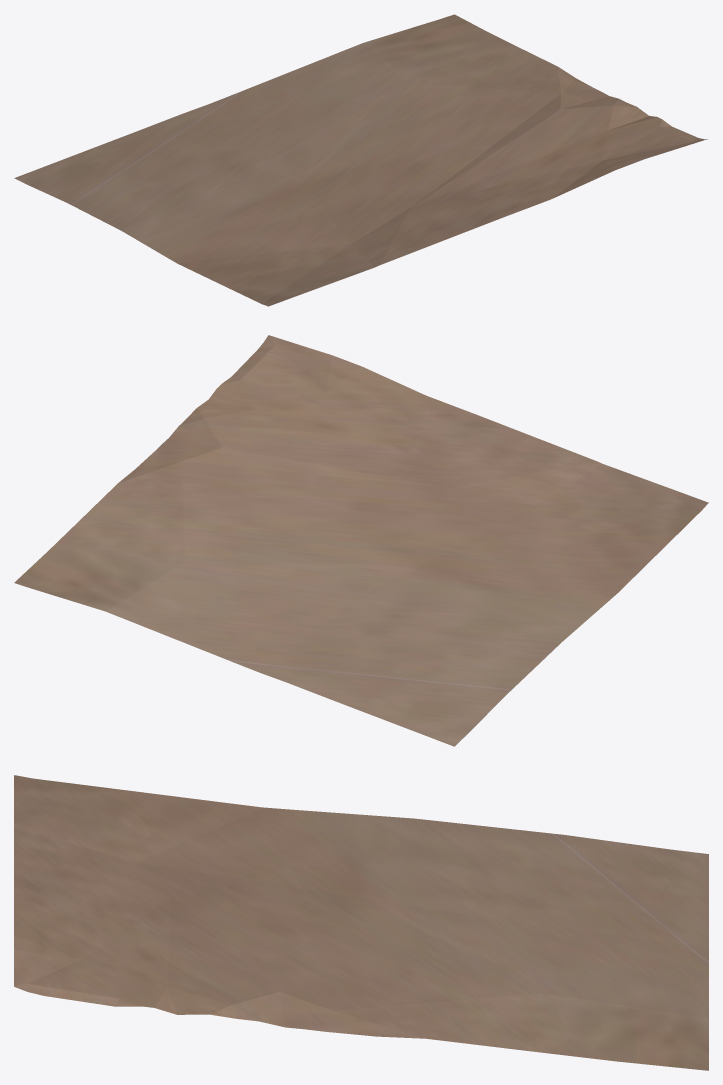
The picture shows the model from 3 angles, top to bottom: view 1: azimuth 30°, elevation 25°; view 2: azimuth 150°, elevation 25°; view 3: azimuth 270°, elevation 25°; orthographic projection. The views are drawn at different scales.
Bounding box in the file's own units: 1.04 × 0.2673 × 1.04.
2 materials, 2 textured.
